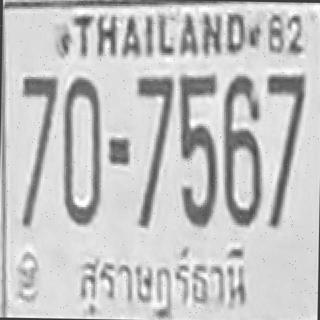N00: (177, 121, 216, 224), (62, 75, 100, 176)
N07: (264, 71, 304, 160), (135, 75, 173, 159), (19, 74, 56, 156)
P67: (70, 242, 256, 320)
